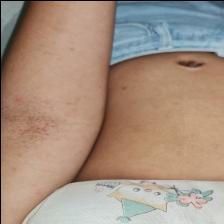DA: (0, 88, 89, 158)
